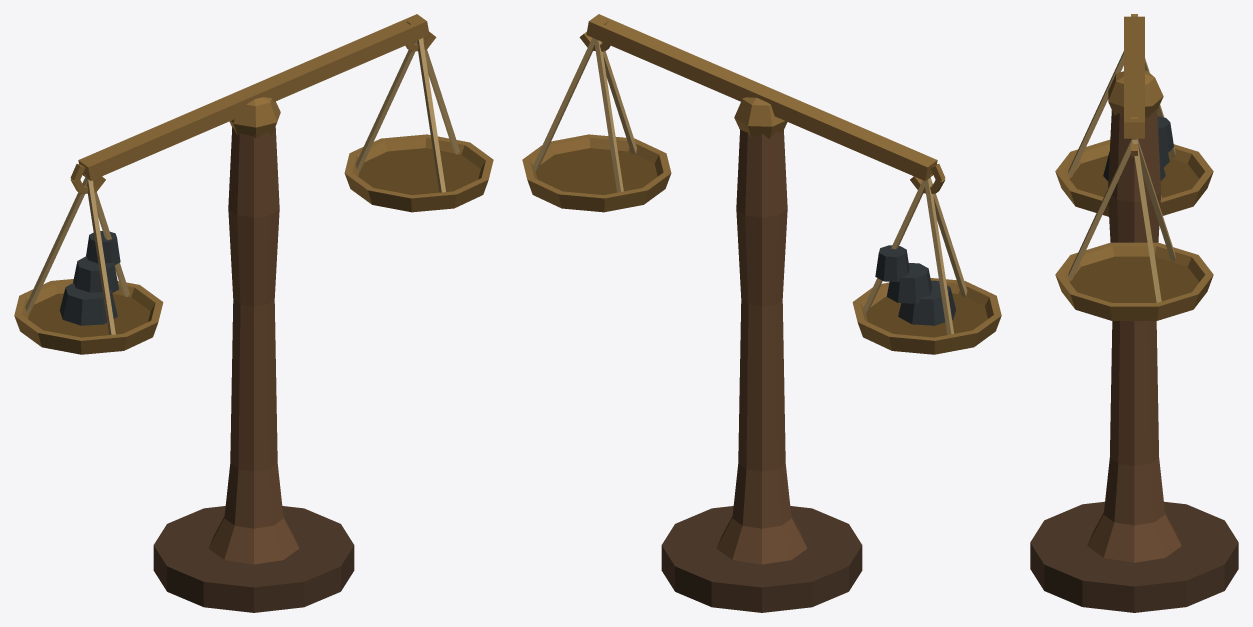
Rendered from mdvl_food_scales_01.glb.
The picture shows the model from 3 angles, left to right: view 1: azimuth 30°, elevation 25°; view 2: azimuth 150°, elevation 25°; view 3: azimuth 270°, elevation 25°; orthographic projection. The views are drawn at different scales.
Visible parts, largest first — view 1: mdvl_food_scales_01; view 2: mdvl_food_scales_01; view 3: mdvl_food_scales_01.
Part boxes in pixels (x1=…): mdvl_food_scales_01: x1=14, y1=14, x2=493, y2=612; mdvl_food_scales_01: x1=522, y1=14, x2=1001, y2=612; mdvl_food_scales_01: x1=1030, y1=14, x2=1238, y2=612.
Bounding box in the file's own units: 0.5246 × 0.5628 × 0.2.
Materials: 1 (1 with a texture image).
